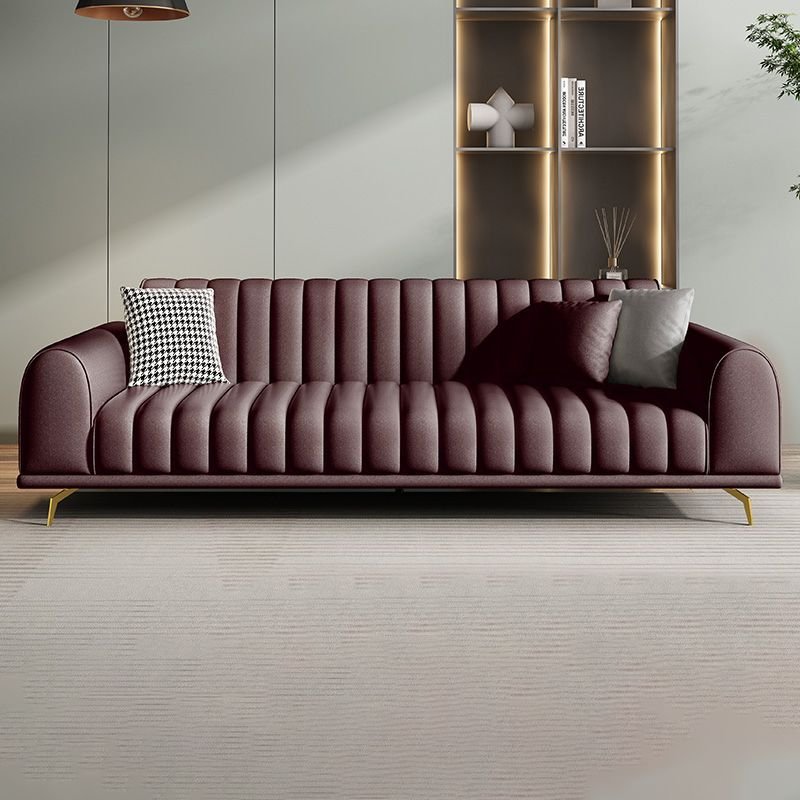3seatersofa: (18, 280, 780, 523)
backrest: (146, 279, 600, 382)
base: (16, 470, 782, 488)
leftarmrest: (679, 325, 779, 475)
leg: (46, 490, 76, 518), (726, 490, 752, 518)
pillow: (478, 289, 693, 388), (121, 287, 226, 385)
rightarmrest: (20, 323, 126, 473)
seat: (94, 381, 706, 475)
